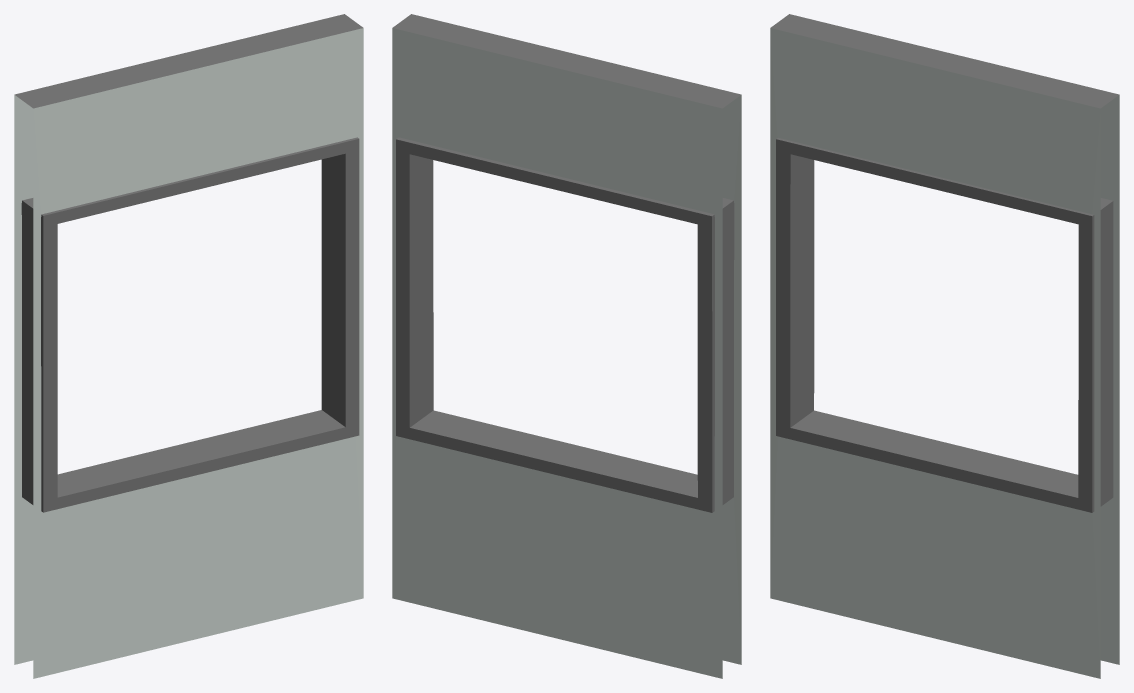
File: SM_Wall_Window_A_200.fbx
The picture shows the model from 3 angles, left to right: view 1: azimuth 30°, elevation 25°; view 2: azimuth 150°, elevation 25°; view 3: azimuth 330°, elevation 25°; orthographic projection.
Parts seen in each view (by area): view 1: SM_Wall_Window_A_200; view 2: SM_Wall_Window_A_200; view 3: SM_Wall_Window_A_200.
Boxes of the visible parts, x1,y1,x2,y2 form: SM_Wall_Window_A_200: [14, 14, 363, 678]; SM_Wall_Window_A_200: [392, 14, 741, 678]; SM_Wall_Window_A_200: [770, 14, 1119, 678].
Bounding box in the file's own units: 200 × 330 × 25.14.
